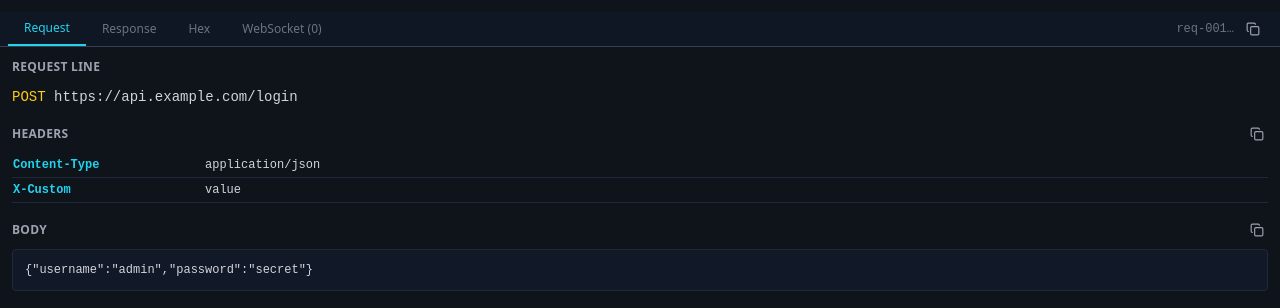
Test case: RequestDetail › shows "No response" when response is null
What coordinates should you click on to do the following:
click the button "Response"
I would click on:
 (129, 29)
Its box is [86,13,172,45].
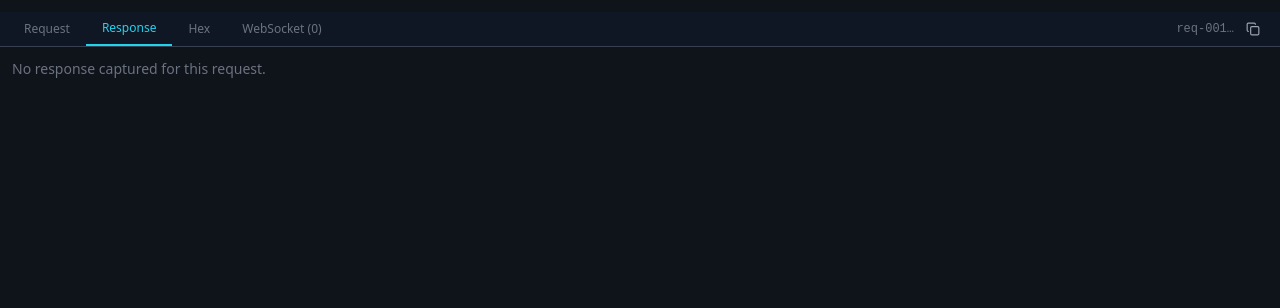
Check: the text "No response captured for this request." is shown, box [12,59,266,78]
